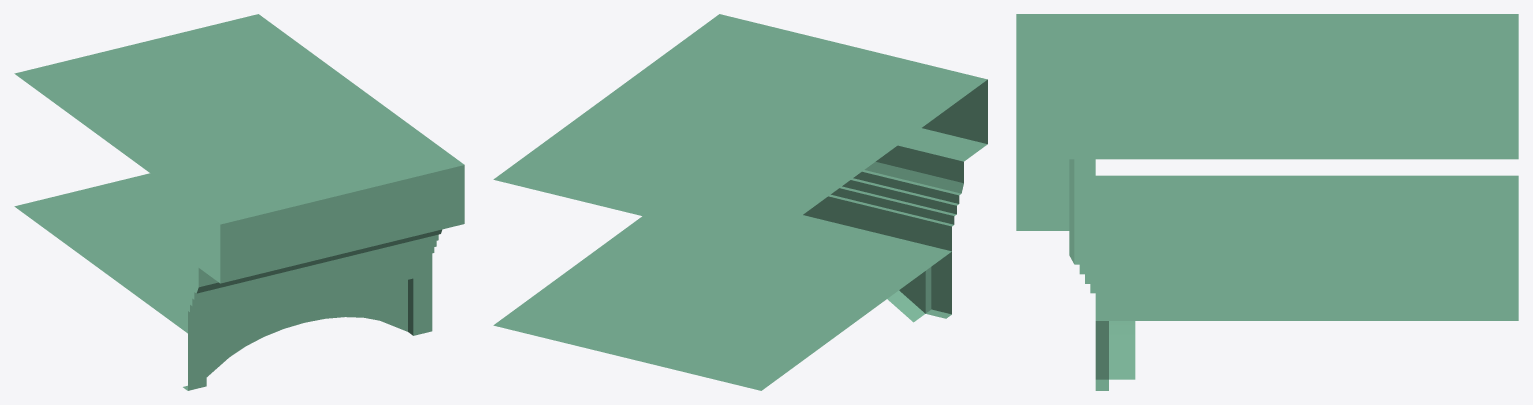
File: object_B3_Roof_side.glb
3 views of the same model, side by side, from view 1: azimuth 30°, elevation 25°; view 2: azimuth 150°, elevation 25°; view 3: azimuth 270°, elevation 25° (orthographic). The views are drawn at different scales.
Visible parts, largest first — view 1: B3 Roof side; view 2: B3 Roof side; view 3: B3 Roof side.
Part boxes in pixels (<box>): B3 Roof side: <box>14,14,464,390</box>; B3 Roof side: <box>493,14,987,390</box>; B3 Roof side: <box>1016,14,1518,390</box>.
Bounding box in the file's own units: 2.6 × 1.93 × 3.8.
